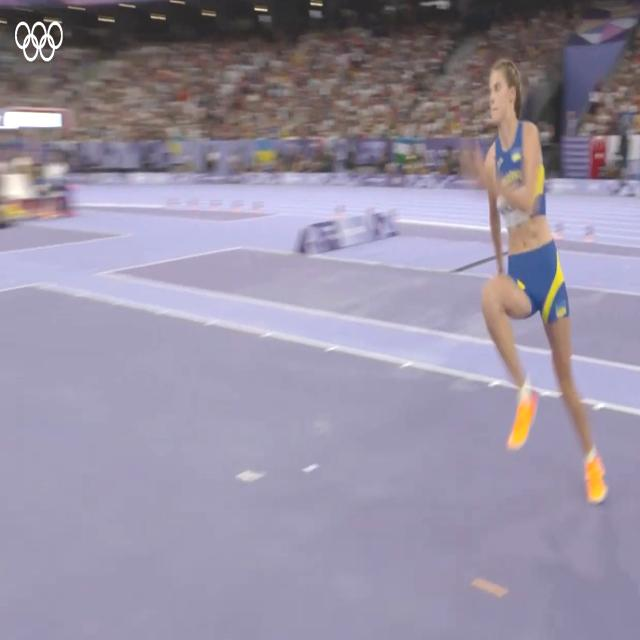run: (476, 47, 614, 504)
